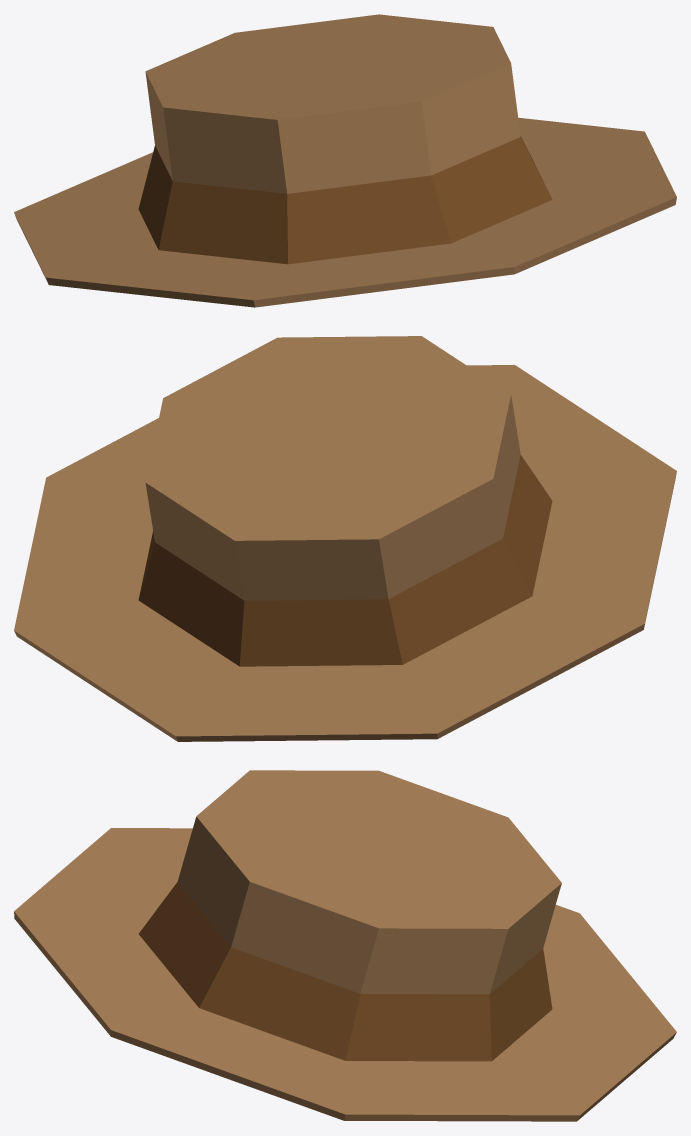
File: Farmer_Hat.fbx
The picture shows the model from 3 angles, top to bottom: view 1: azimuth 30°, elevation 25°; view 2: azimuth 150°, elevation 25°; view 3: azimuth 270°, elevation 25°; orthographic projection. The views are drawn at different scales.
Parts seen in each view (by area): view 1: Farmer_M_Hat; view 2: Farmer_M_Hat; view 3: Farmer_M_Hat.
Boxes of the visible parts, box(x1,y1,x2,y2) form: Farmer_M_Hat: box(14, 14, 676, 307); Farmer_M_Hat: box(14, 336, 676, 741); Farmer_M_Hat: box(14, 770, 676, 1121).
Size of the model in its own units: 40.8 by 14.81 by 40.
